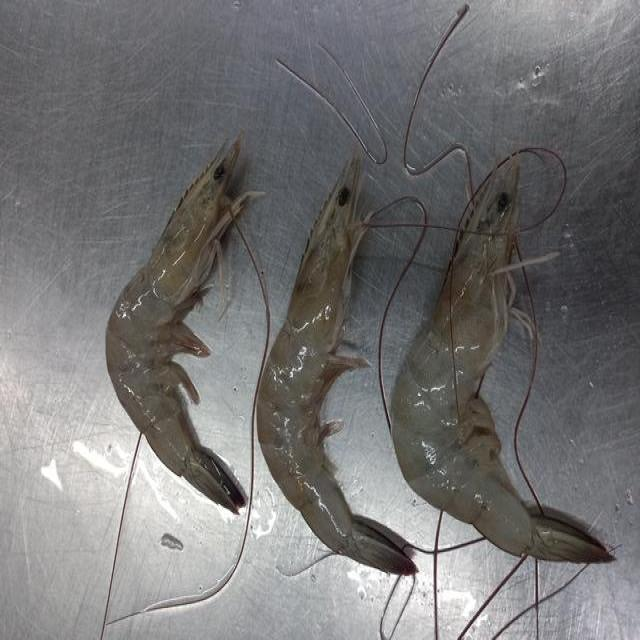shrimp: (391, 157, 612, 561), (258, 152, 416, 574), (106, 135, 255, 512)
